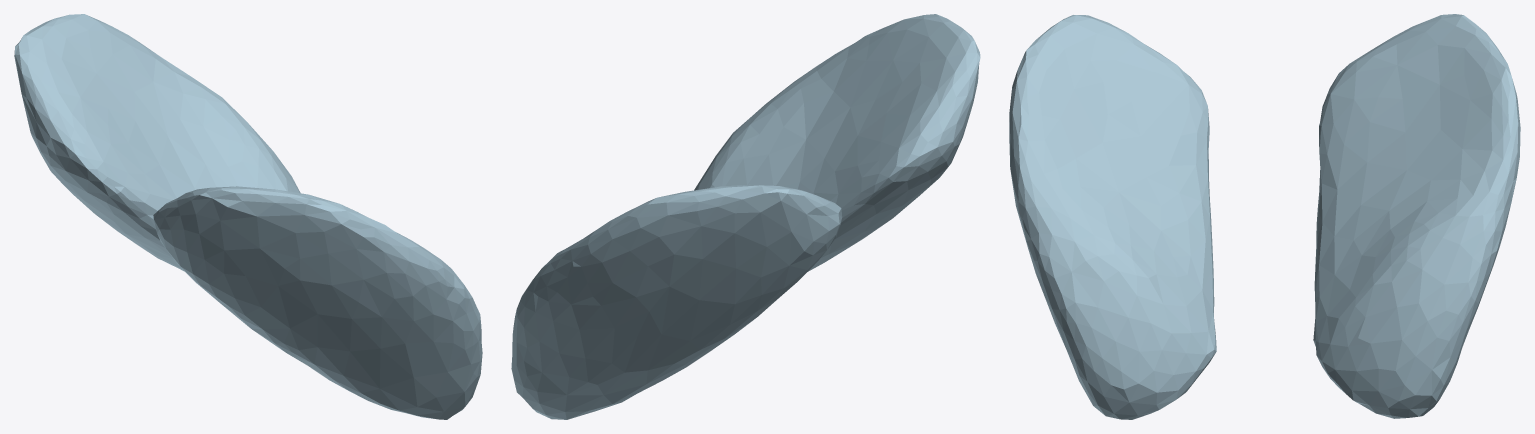
3 renders of one model, left to right at view 1: azimuth 30°, elevation 25°; view 2: azimuth 150°, elevation 25°; view 3: azimuth 270°, elevation 25°, orthographic. The views are drawn at different scales.
Visible parts, largest first — view 1: 250.obj; view 2: 250.obj; view 3: 250.obj.
Part boxes in pixels (box(x1,y1,x2,y2)): 250.obj: box(14, 14, 482, 419); 250.obj: box(511, 14, 980, 419); 250.obj: box(1009, 14, 1520, 419).
Size of the model in its own units: 1151 by 1141 by 1821.
